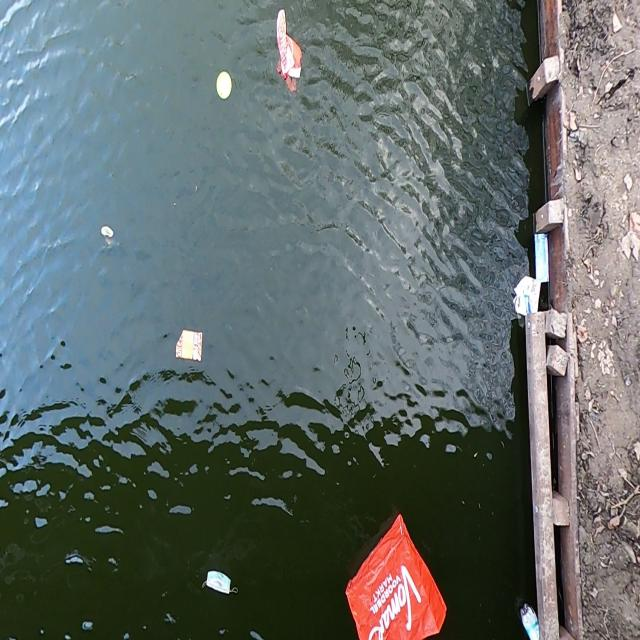Autre plastique: (170, 325, 208, 361)
Non plastique: (197, 565, 240, 603)
Sac plastique: (343, 502, 450, 640), (271, 4, 308, 96)
